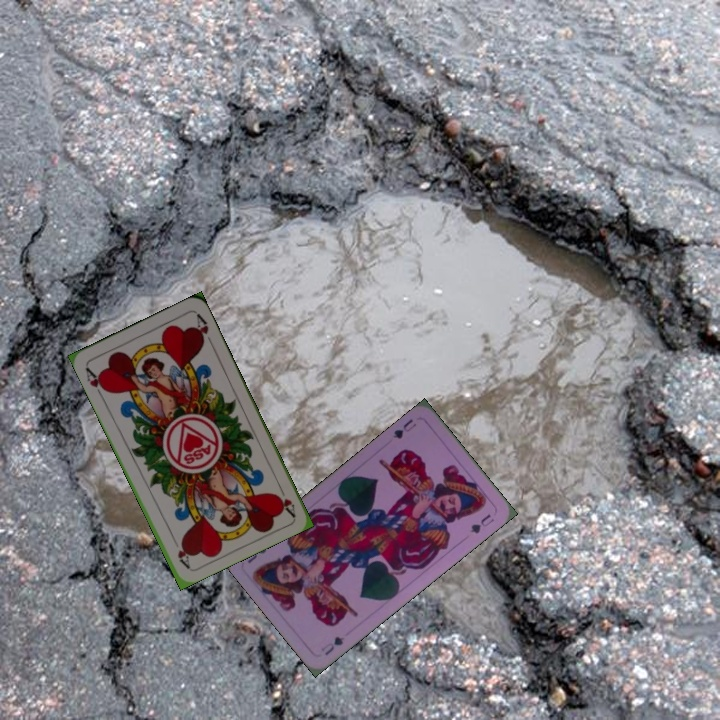GU: (389, 415, 419, 441), (317, 632, 347, 658)
HA: (82, 363, 110, 401), (272, 480, 298, 518)
